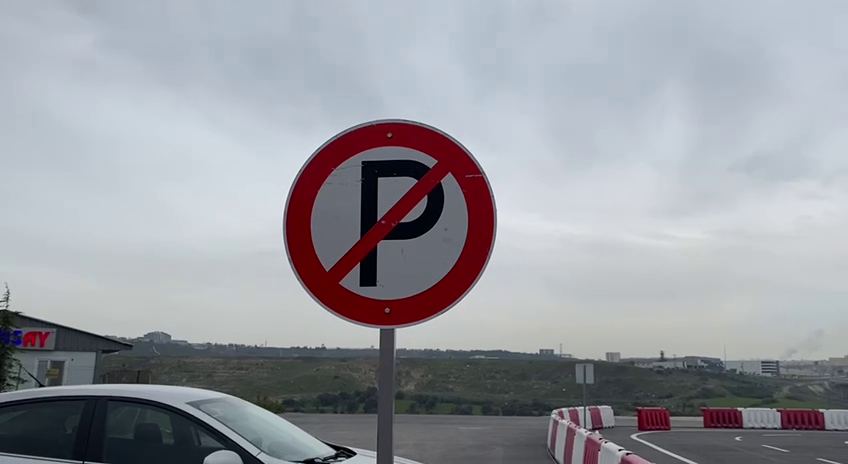noparking: (277, 109, 506, 334)
